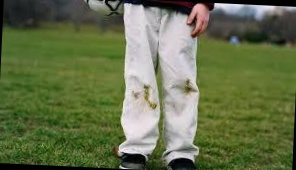earth: (184, 79, 192, 99), (141, 87, 150, 101), (131, 90, 139, 100), (150, 103, 156, 109)
